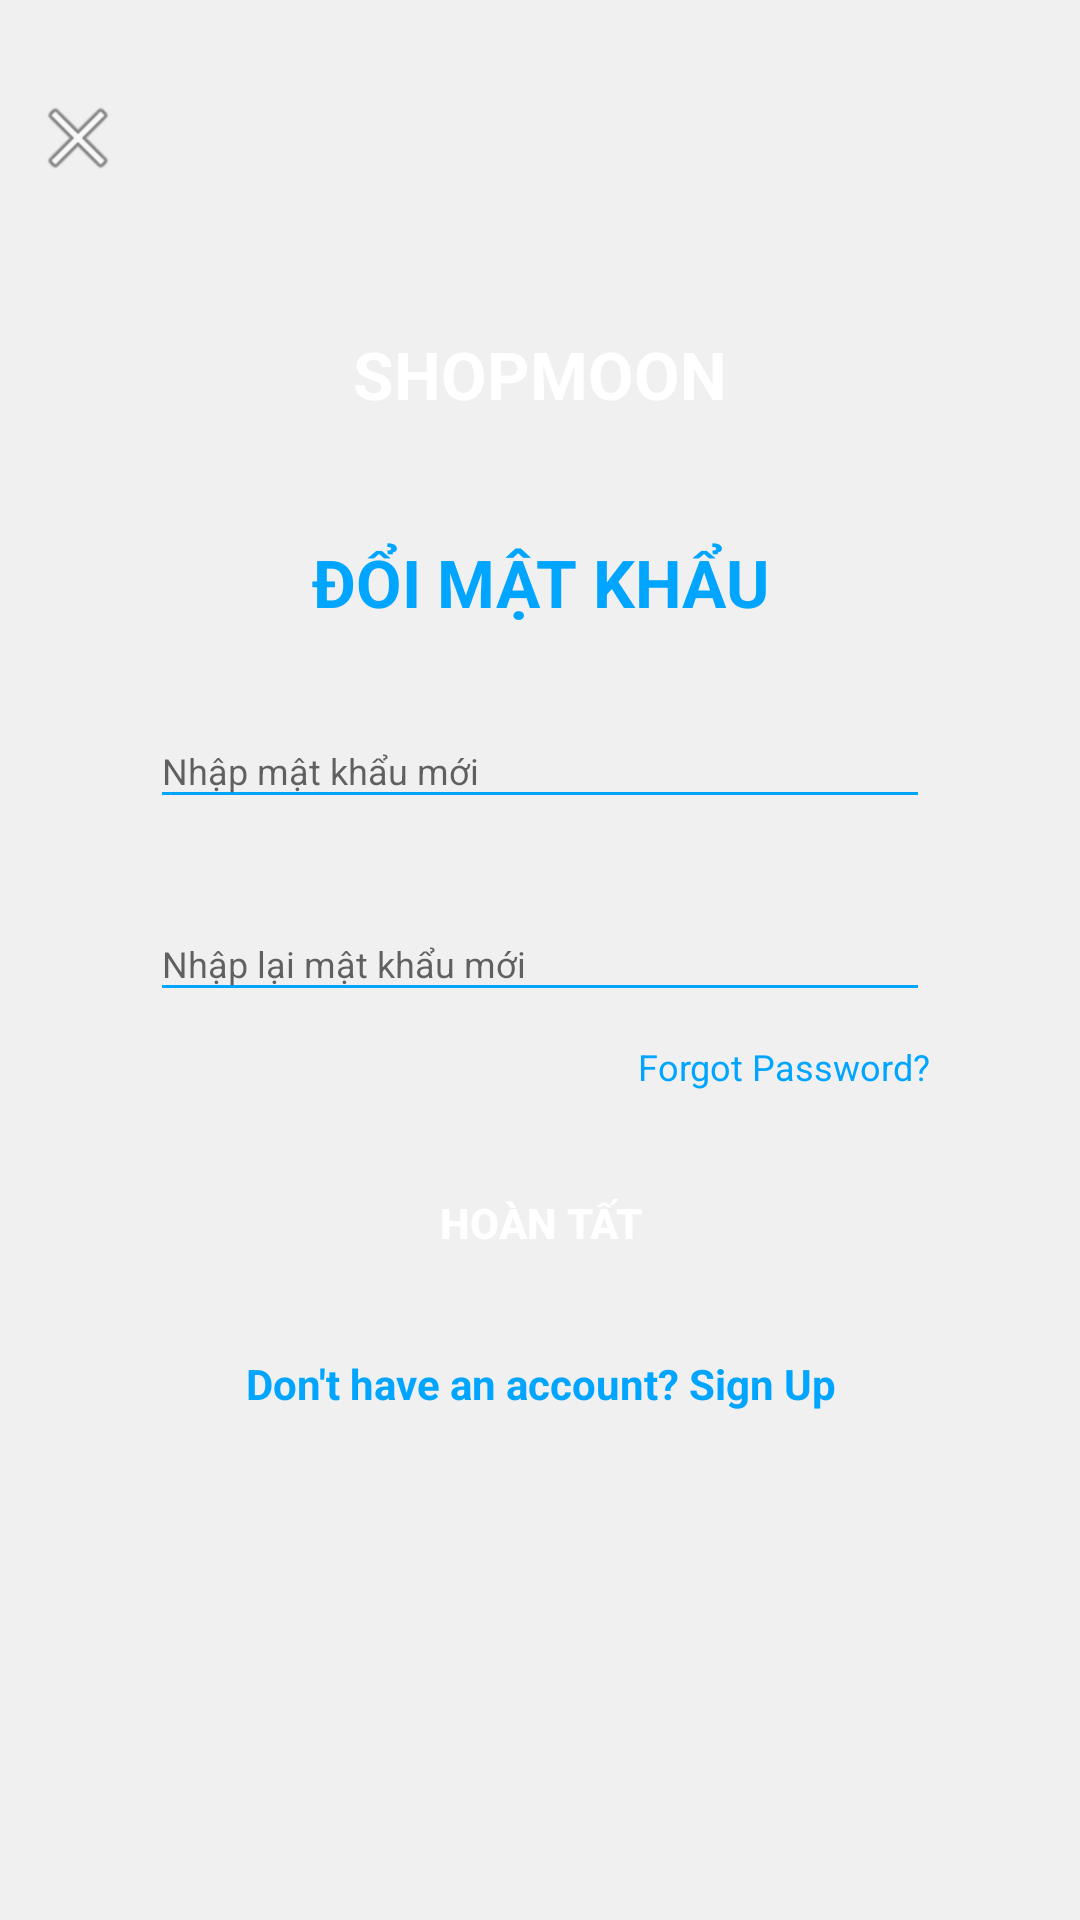

Where to tap for icons on this 1080 × 1920 app screen, as point (x, y):
close clear cancel: point (78, 138)
